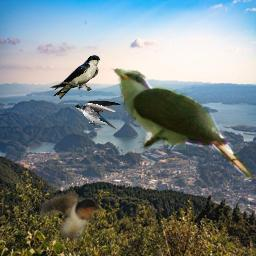Cuckoo: (110, 68, 256, 179)
Swallow: (38, 191, 102, 242), (49, 55, 100, 99), (73, 100, 121, 129)
